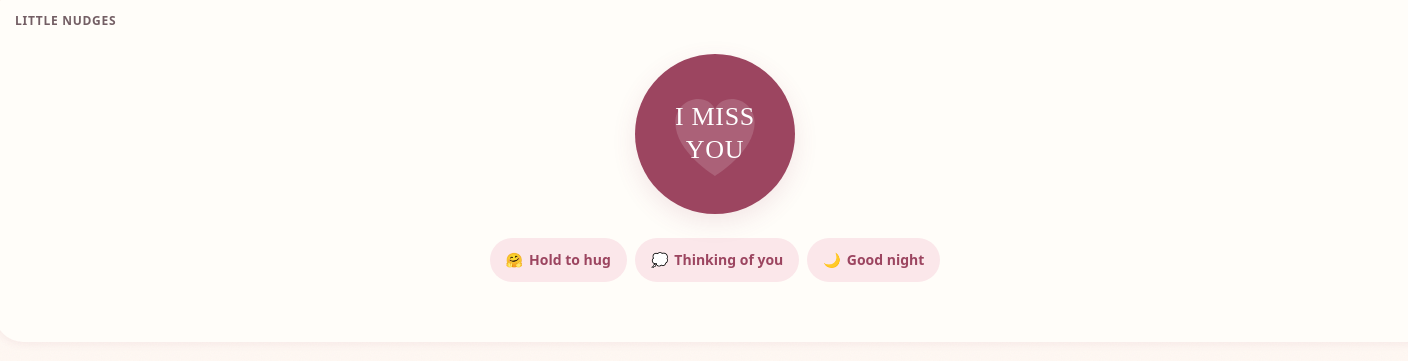
Test case: NudgePad › treats a double tap gently instead of as an error
Click the button with aria-label "I miss you". click: point(715, 134)
box: [635,54,795,214]
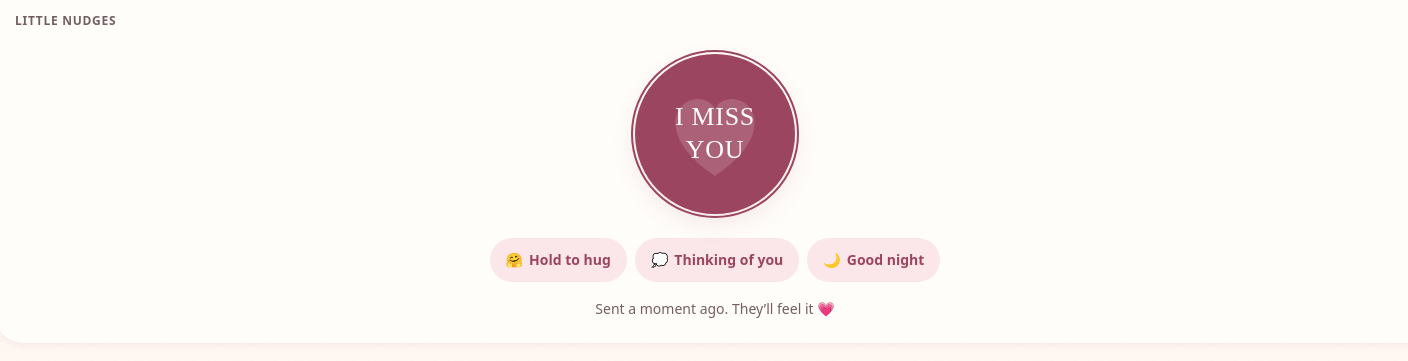
Expected: the text "Sent a moment ago. They’ll feel it 💗" is shown, [595,298,835,319]
